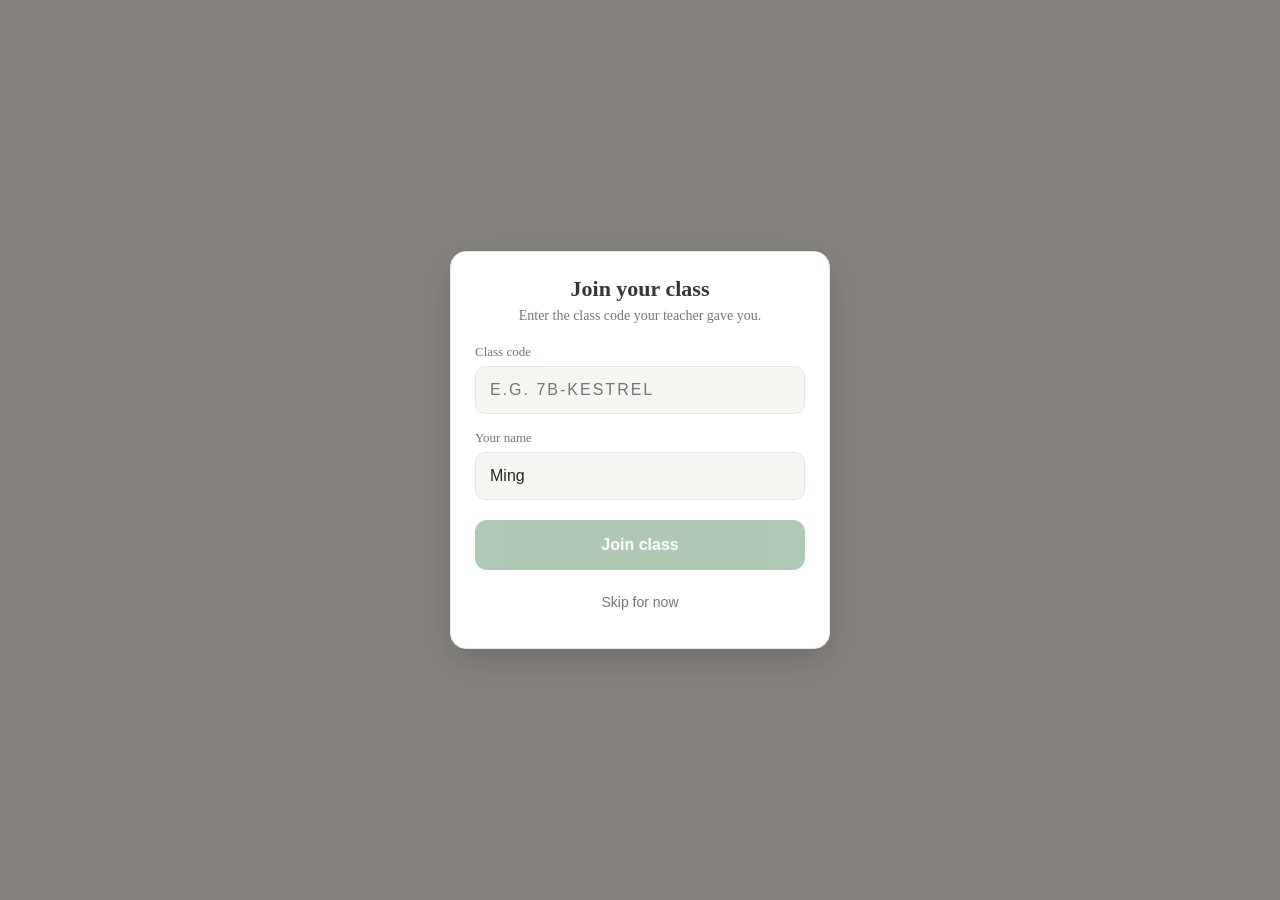
Test: EnrolOverlay — enrol flow › on success shows the class + teacher + the recovery-code moment
Type "DEMO-CLASS-1" into the field with id "enrol-code" at (640, 390), box x1=475 y1=366 x2=805 y2=414
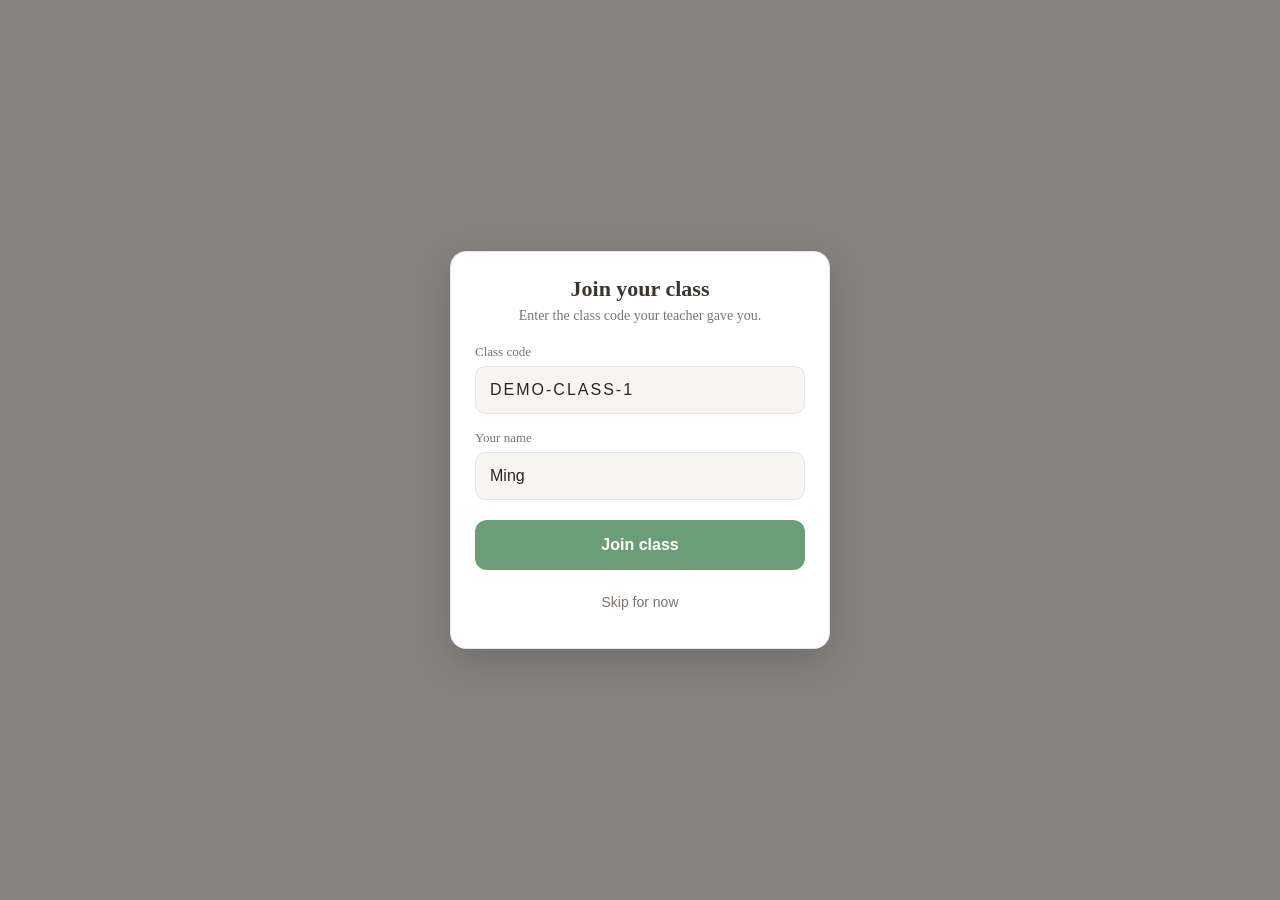
Click the button "Join class" at (640, 545), box x1=475 y1=520 x2=805 y2=570
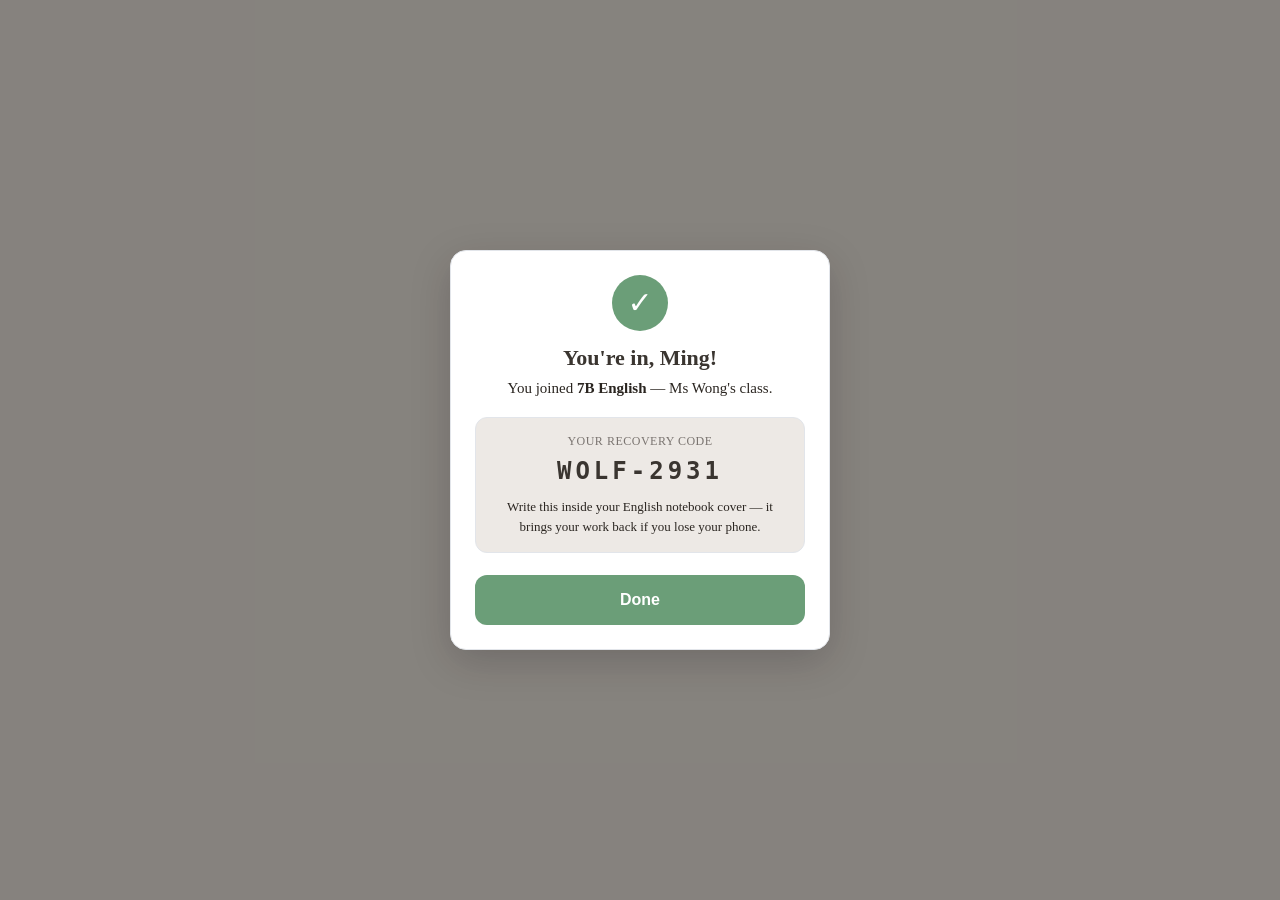
Expected: the text "You're in" is shown, x1=563 y1=345 x2=649 y2=370
Expected: the text "7B English" is shown, x1=577 y1=380 x2=646 y2=396
Expected: the text "Ms Wong" is shown, x1=669 y1=380 x2=727 y2=396
